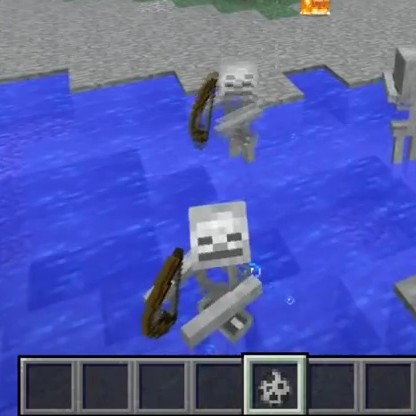skeleton: (152, 199, 271, 342)
